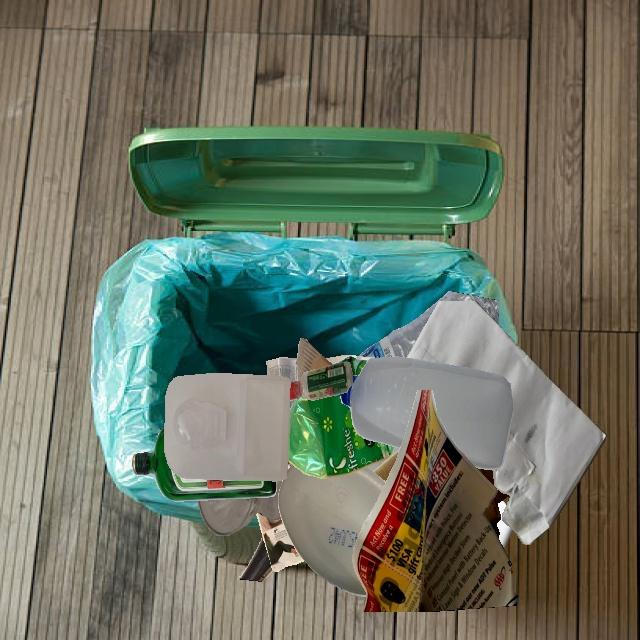cardboard: (476, 468, 510, 539), (295, 338, 332, 381), (373, 448, 400, 482)
glass: (132, 426, 277, 502), (198, 480, 283, 536), (238, 535, 273, 582)
paper: (406, 301, 606, 545), (352, 390, 518, 612), (256, 511, 304, 571), (295, 363, 338, 400), (496, 500, 513, 549), (367, 447, 400, 471), (267, 358, 298, 382), (325, 355, 375, 365)
plastic: (340, 356, 514, 470), (278, 464, 386, 596), (164, 373, 290, 481), (358, 291, 499, 358), (288, 394, 395, 478), (290, 362, 353, 400)
